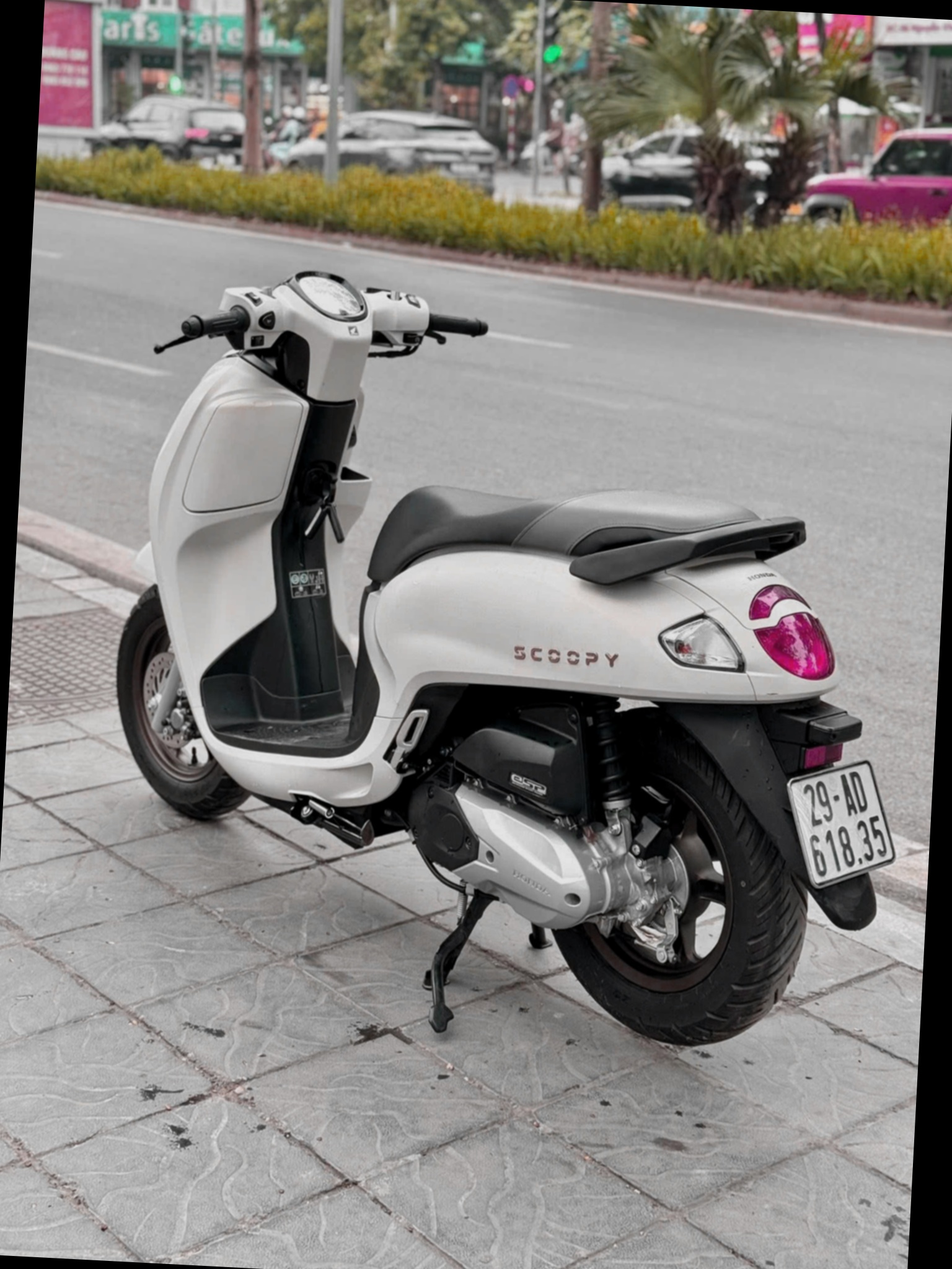Bien-so: (781, 754, 901, 895)
